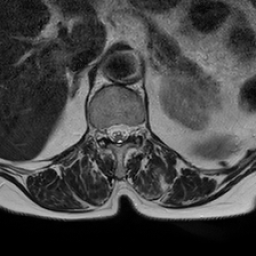CCS_normal: (115, 116, 122, 148)
LFS_normal: (130, 120, 138, 141)
LLS_normal: (122, 118, 129, 141)
RFS_normal: (99, 118, 108, 144)
RLS_normal: (107, 118, 115, 142)
